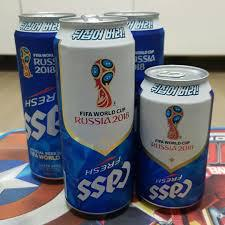beer: (15, 11, 213, 217)
